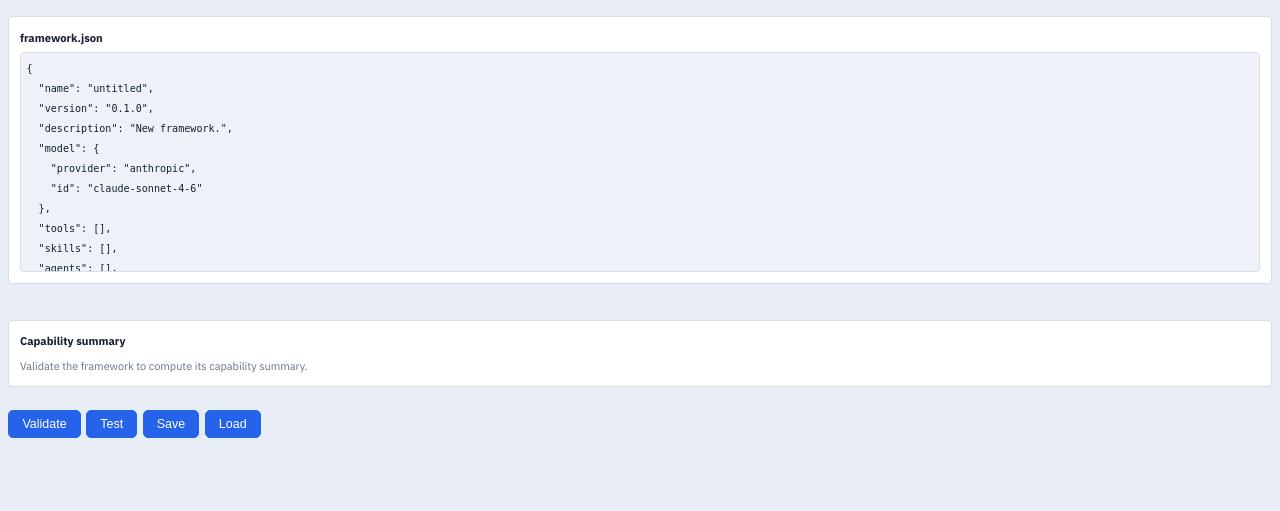
Test: Inspector › a_failed_load_surfaces_the_error
The image size is (1280, 511).
What coordinates should you click on to do the following:
click the button "Load"
I would click on:
 (233, 424)
Its box is top-left (205, 410), bottom-right (261, 438).
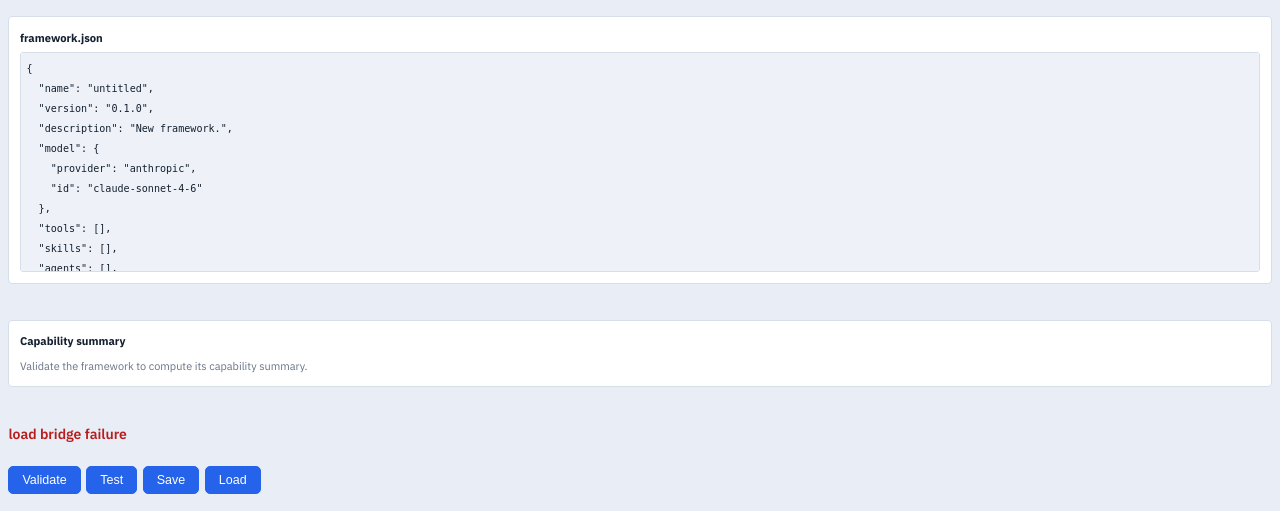
Now the text "load bridge failure" is shown, box top-left (8, 424), bottom-right (127, 442)
